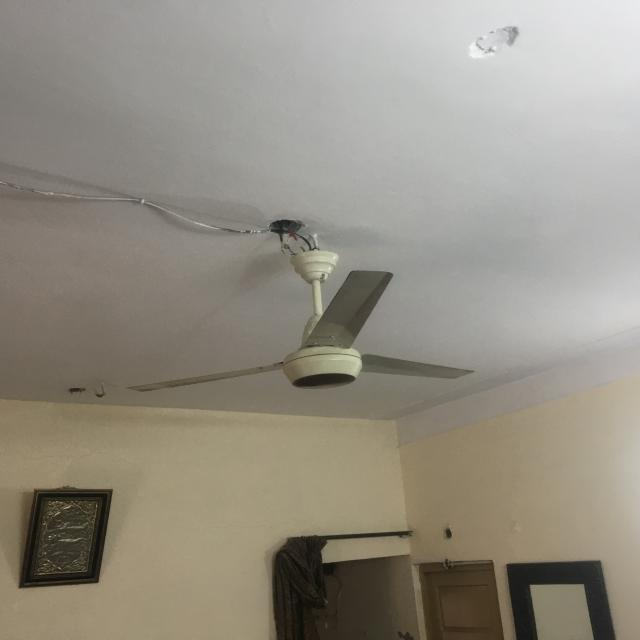off: (120, 262, 482, 406)
